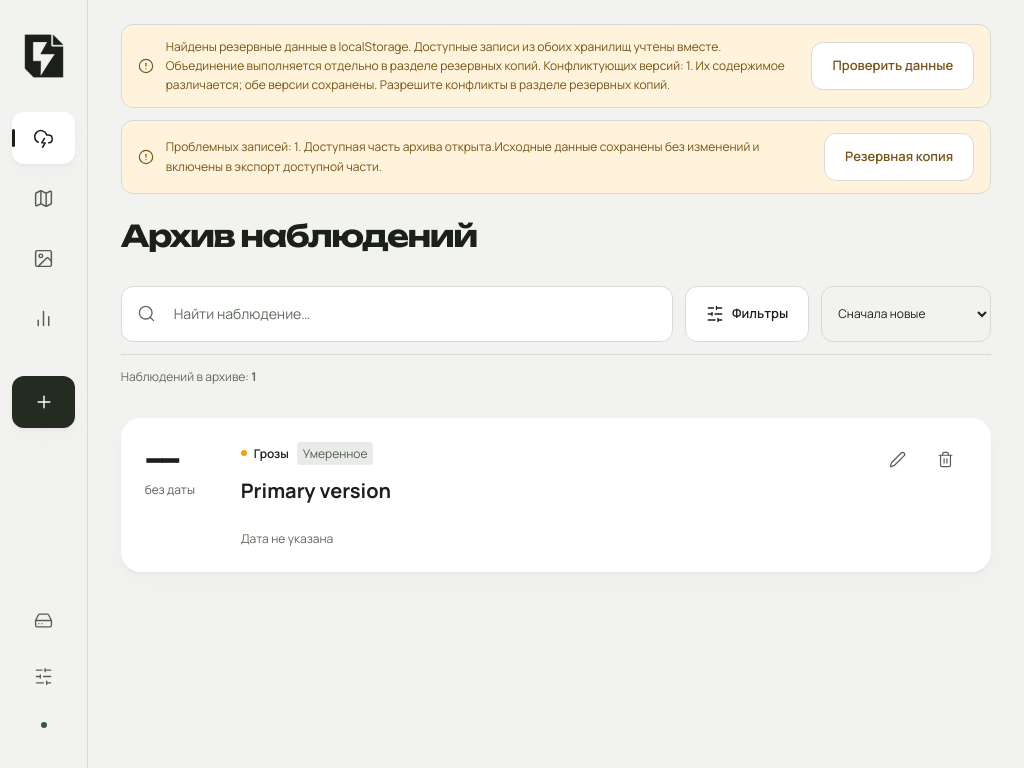
Test: storage backend recovery through the application › explains a collision and retains both complete versions only after confirmation
Expected: the button "Primary version" is shown, [241,469,391,513]
Click the button named "Данные и резервные копии" at (44, 620), box [12,594,75,646]
(page scrolled)
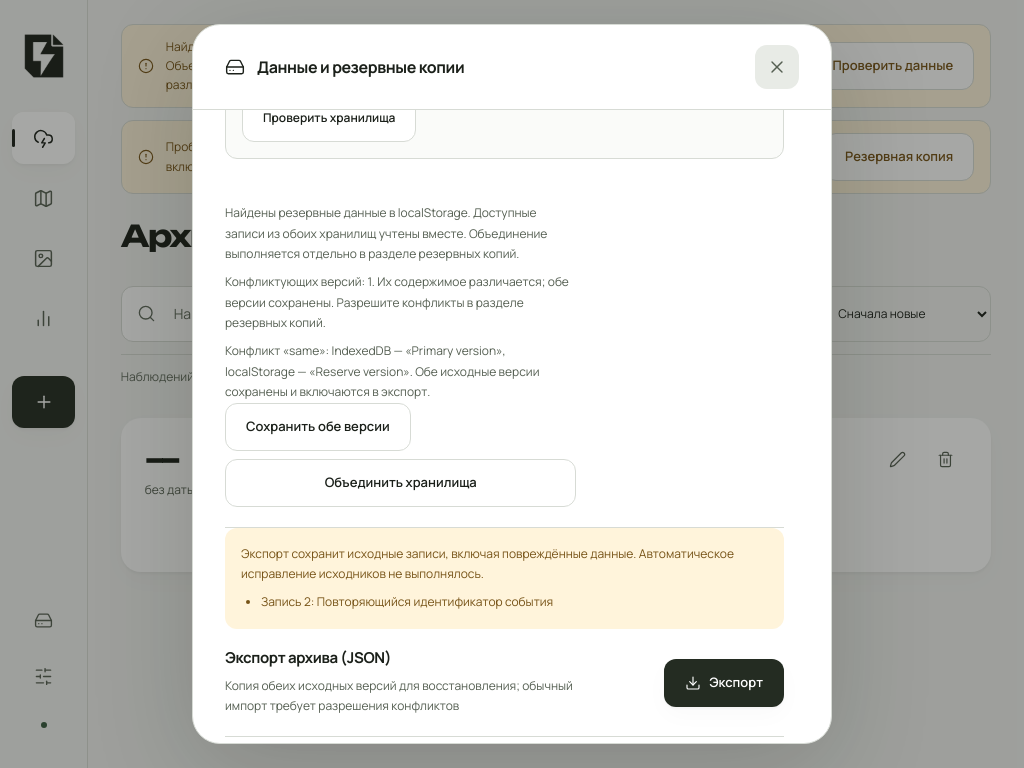
Now the text "Конфликт «same»" is shown, box [225,342,576,403]
Click the button "Сохранить обе версии" at (318, 427), box [225,403,411,451]
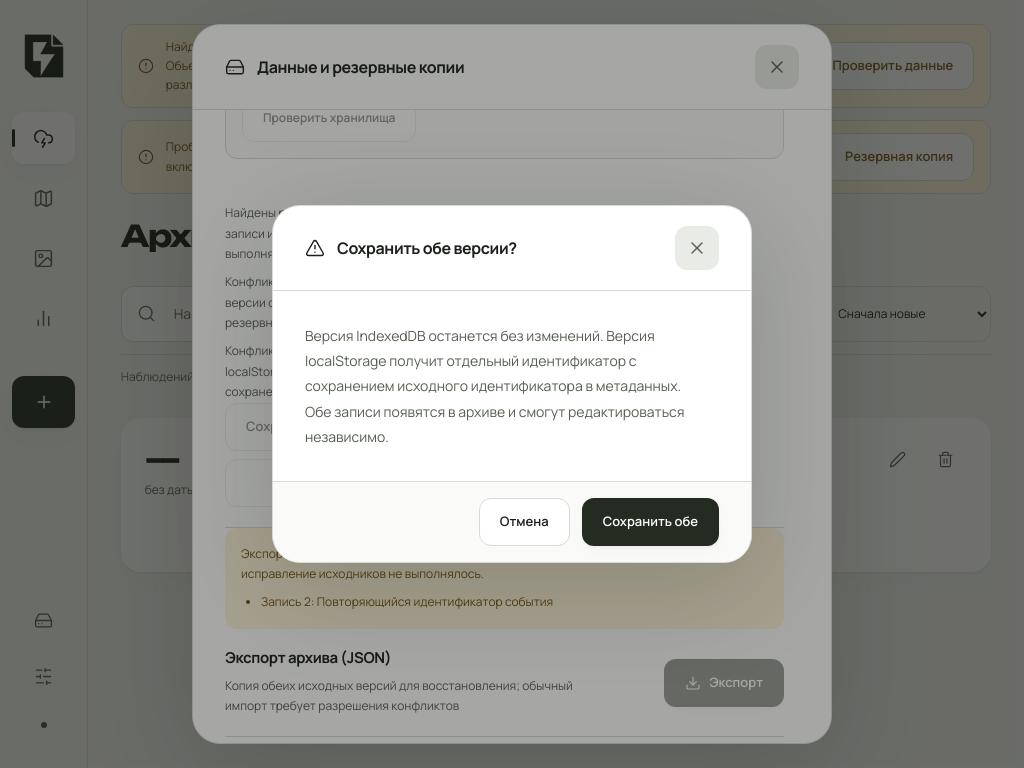
Click the button "Отмена" at (524, 522), box [479,498,570,546]
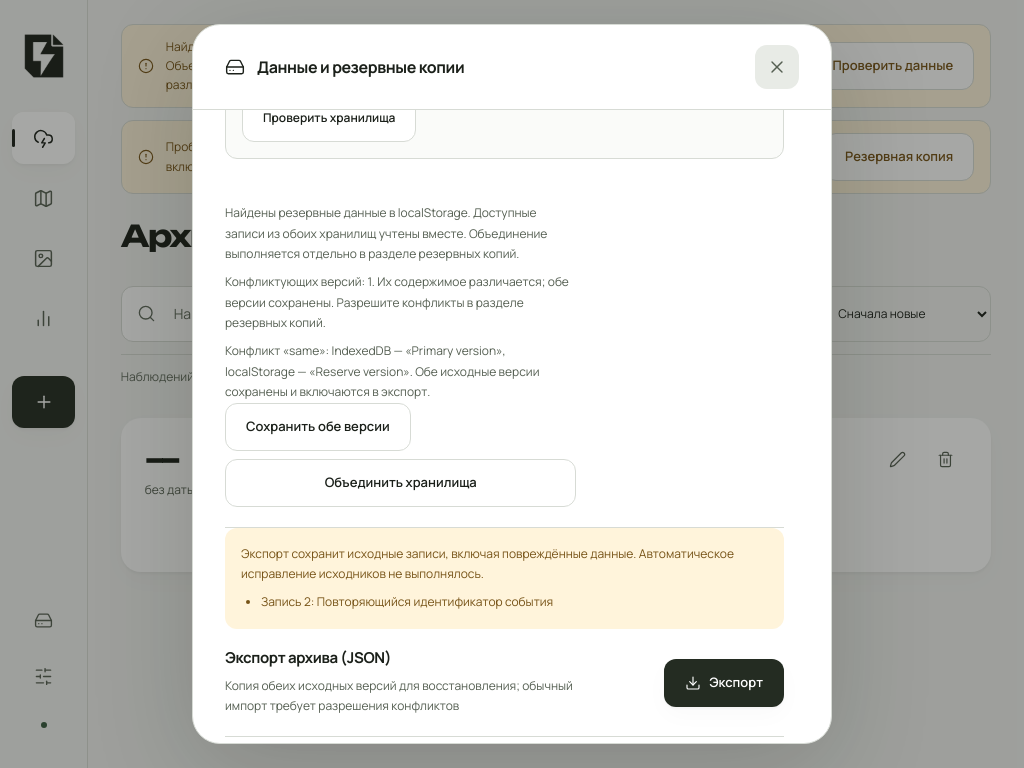
Click the button "Сохранить обе версии" at (318, 427), box [225,403,411,451]
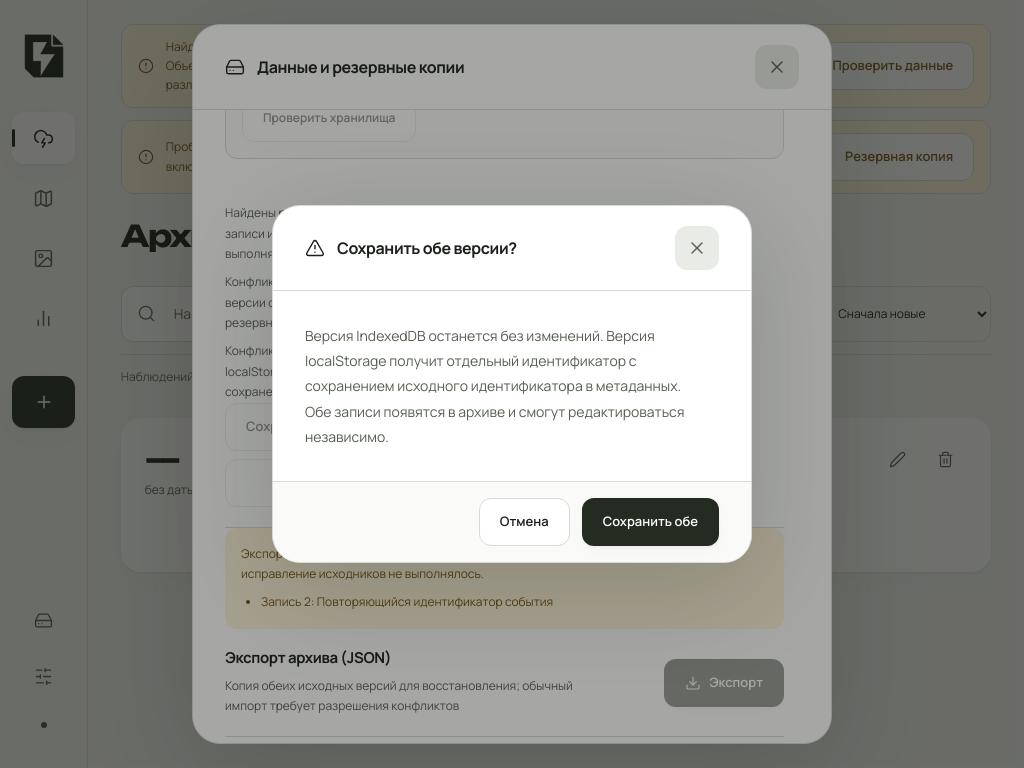
Click the button "Сохранить обе" at (650, 522), box [582,498,719,546]
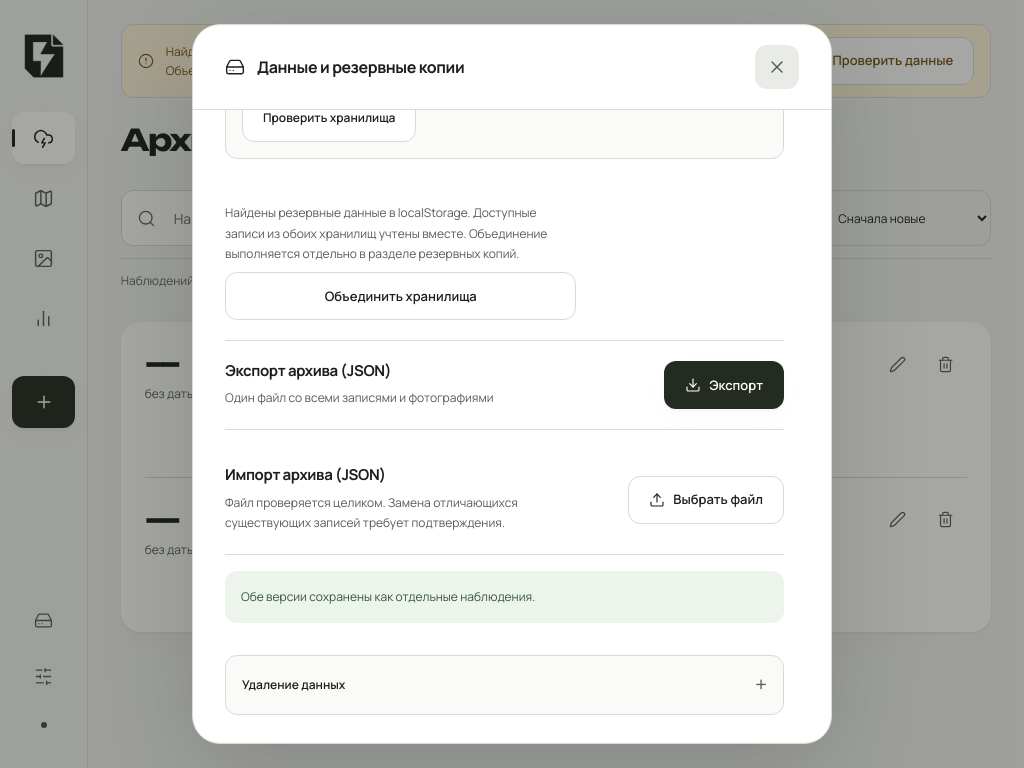
Expected: the button "Primary version" is shown, [241,373,391,417]
Now the button "Reserve version" is shown, box [241,529,395,573]
Now the text "Обе версии сохранены как отдельные наблюдения." is shown, box [225,571,784,623]
